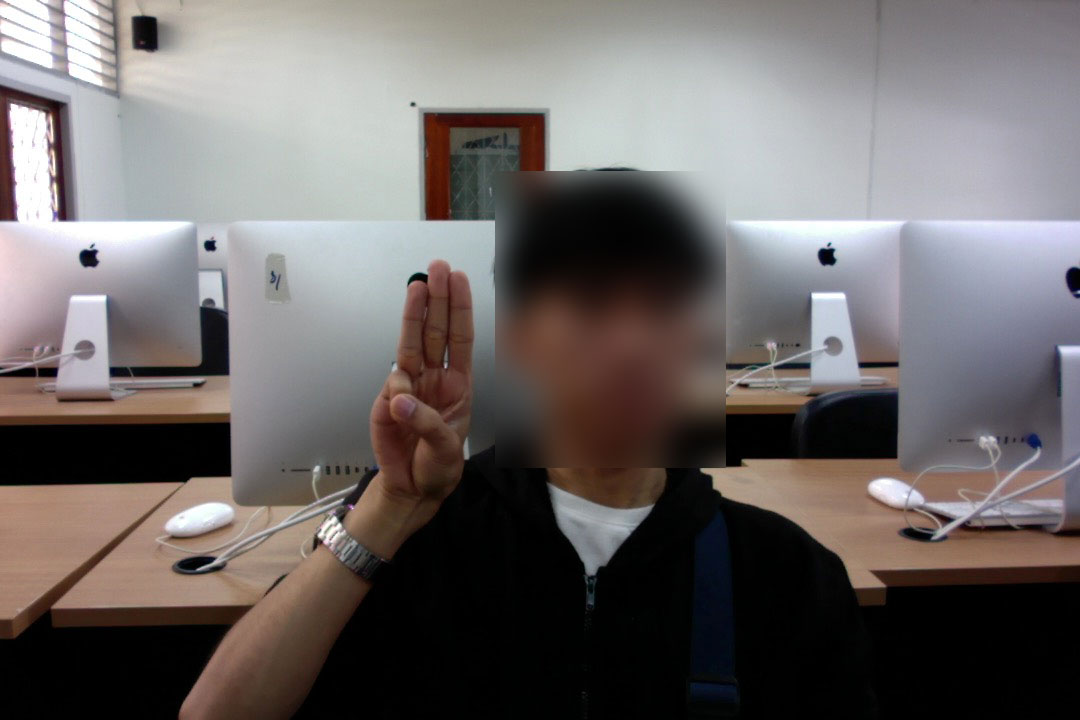wor: (364, 251, 501, 505)
